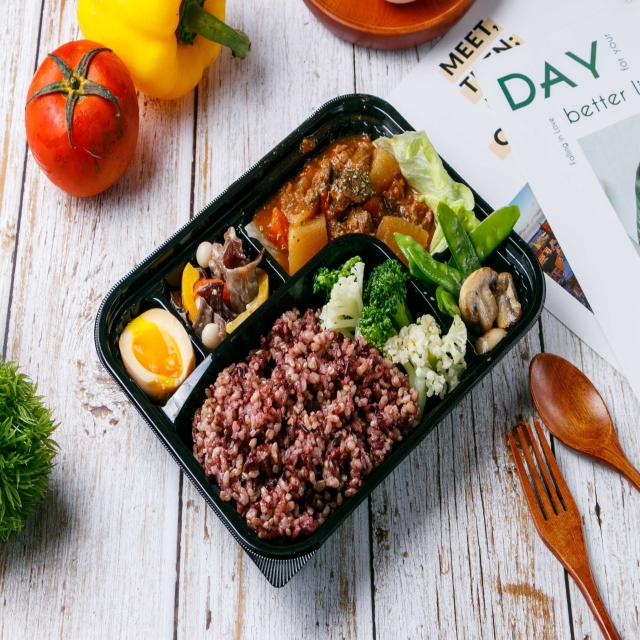cauliflower: (335, 270, 441, 349)
purplerice: (200, 392, 372, 475)
